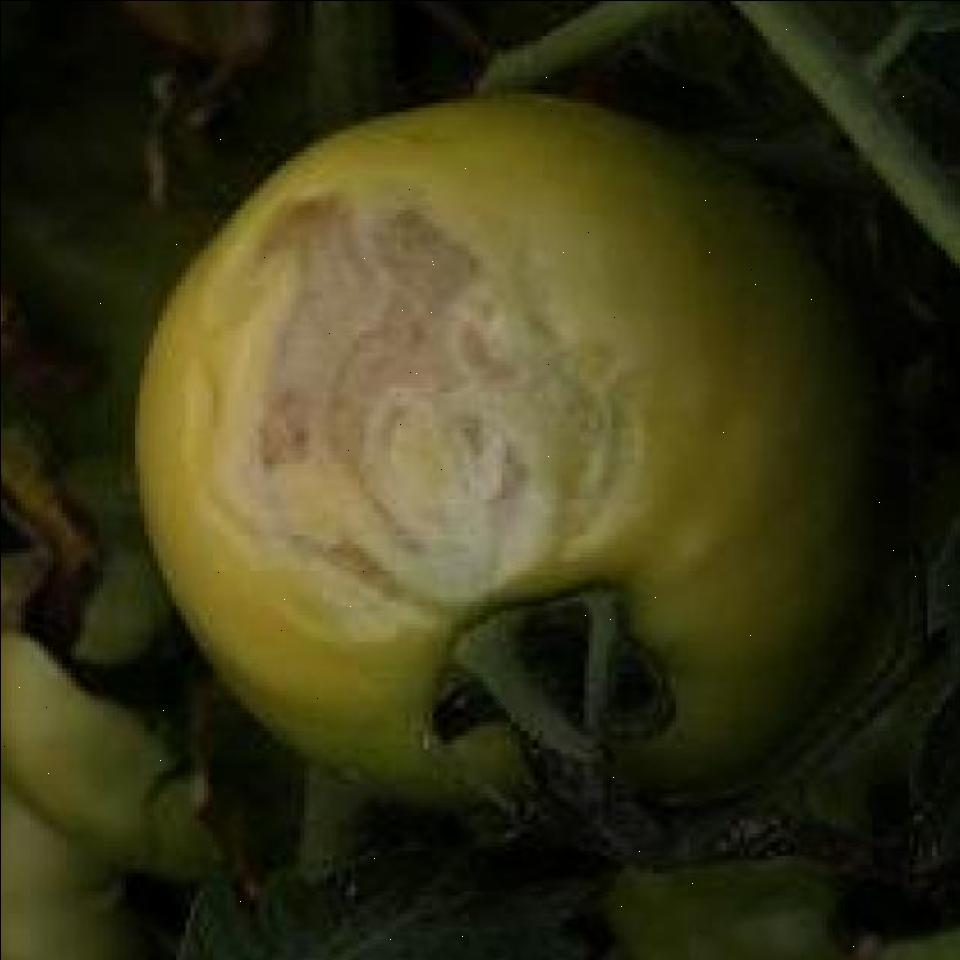Sunscald: (173, 191, 627, 668)
